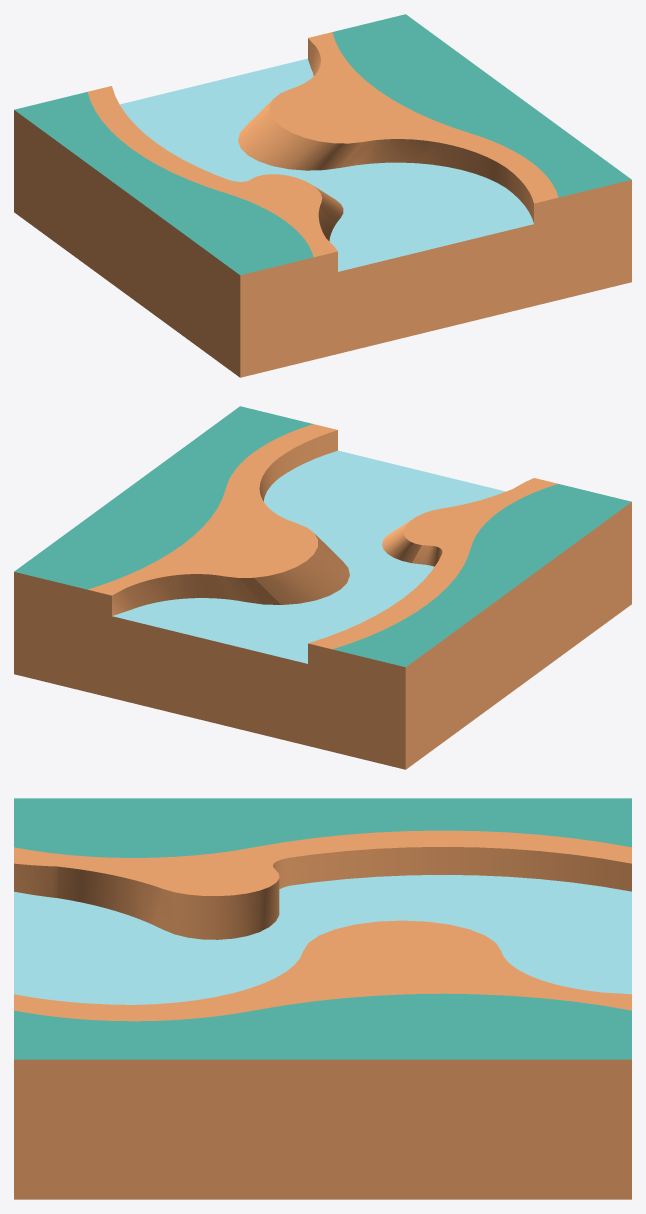
The model's file is ground_dirtRiverBanks.obj.
3 renders of one model, top to bottom at view 1: azimuth 30°, elevation 25°; view 2: azimuth 150°, elevation 25°; view 3: azimuth 270°, elevation 25°, orthographic. The views are drawn at different scales.
Parts seen in each view (by area): view 1: ground_dirtRiverBanks; view 2: ground_dirtRiverBanks; view 3: ground_dirtRiverBanks.
Boxes of the visible parts, box(x1,y1,x2,y2) form: ground_dirtRiverBanks: box(14, 14, 631, 377); ground_dirtRiverBanks: box(14, 406, 631, 769); ground_dirtRiverBanks: box(14, 798, 631, 1199).
Bounding box in the file's own units: 10 × 2.5 × 10.
